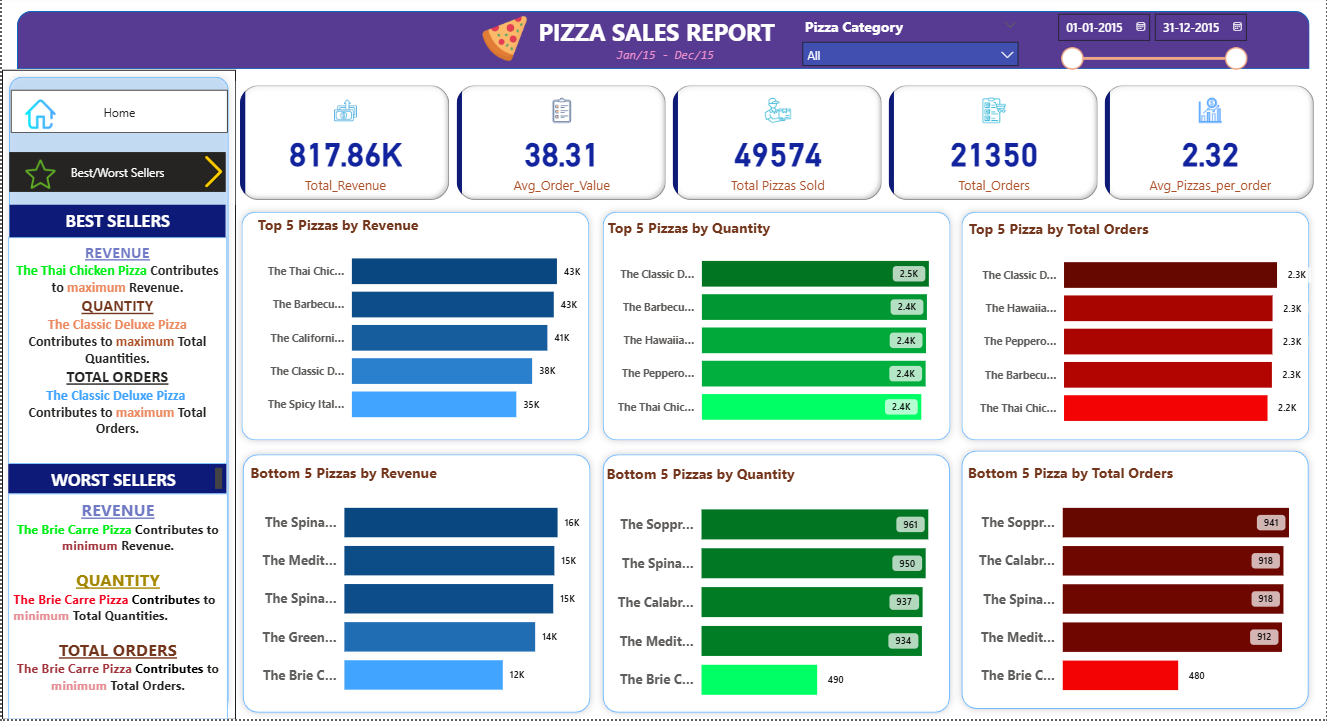

What the dashboard file says about the page in this screenshot:
{"tool":"powerbi","page":{"name":"Best/Worst Sellers","canvas":[1500,820],"ordinal":1},"visuals":[{"type":"shape","box":[0,83.6,264.9,736.7],"z":0},{"type":"textbox","box":[7.3,529.2,247.2,34.8],"z":1000},{"type":"cardVisual","fields":{"Data":["pizza_sales.Total_Revenue","pizza_sales.Avg_Order_Value","pizza_sales.Total Pizzas Sold","pizza_sales.Total_Orders","pizza_sales.Avg_Pizzas_per_order"]},"box":[264.9,96.3,1229.7,140.3],"z":2000},{"type":"shape","box":[17.7,17.7,1464.9,65.9],"z":3000},{"type":"textbox","box":[580.5,17.7,321.6,51.5],"z":4000},{"type":"textbox","box":[675.8,52.4,151.6,31.2],"z":5000},{"type":"image","box":[531.3,17,76.5,62.3],"z":6000},{"type":"shape","box":[263.5,236.6,410,275],"z":7000},{"type":"shape","box":[264.9,511.4,410,308.8],"z":8000},{"type":"textbox","box":[8.5,284.8,247.9,243.7],"z":9000},{"type":"textbox","box":[8.5,247.9,245.1,36.8],"z":10000},{"type":"textbox","box":[7.3,564,249,256.4],"z":11000},{"type":"slicer","fields":{"Values":["pizza_sales.pizza_category"]},"box":[896.8,18.4,264.9,60.9],"z":12000},{"type":"slicer","fields":{"Values":["pizza_sales.order_date"]},"box":[1184.4,9.9,235.2,86.4],"z":13000},{"type":"shape","box":[672.9,236.6,410,275],"z":14000},{"type":"shape","box":[1079.5,236.6,410,275],"z":15000},{"type":"shape","box":[672.9,511.4,409.4,308.8],"z":16000},{"type":"barChart","title":"Top 5 Pizzas by Revenue","fields":{"Category":["pizza_sales.pizza_name"],"Y":["pizza_sales.Total_Revenue"]},"box":[284.8,247.9,396.7,250.8],"z":17000},{"type":"barChart","title":"Bottom 5 Pizzas by Revenue","fields":{"Category":["pizza_sales.pizza_name"],"Y":["pizza_sales.Total_Revenue"]},"box":[276.6,529.1,395.6,281.4],"z":18000},{"type":"barChart","title":"Top 5 Pizzas by Quantity","fields":{"Category":["pizza_sales.pizza_name"],"Y":["pizza_sales.Total Pizzas Sold"]},"box":[681.8,250.9,397.2,250.9],"z":19000},{"type":"barChart","title":"Bottom 5 Pizzas by Quantity","fields":{"Category":["pizza_sales.pizza_name"],"Y":["pizza_sales.Total Pizzas Sold"]},"box":[680,529.9,398.1,286.2],"z":20000},{"type":"shape","box":[1079.5,507.2,409.4,308.8],"z":21000},{"type":"barChart","title":"Top 5 Pizza by Total Orders","fields":{"Category":["pizza_sales.pizza_name"],"Y":["pizza_sales.Total_Orders"]},"box":[1090.9,252.2,398.1,250.8],"z":22000},{"type":"barChart","title":"Bottom 5 Pizza by Total Orders","fields":{"Category":["pizza_sales.pizza_name"],"Y":["pizza_sales.Total_Orders"]},"box":[1089.5,528.4,398.1,281.9],"z":23000},{"type":"pageNavigator","box":[8.5,177.1,245.1,45.3],"z":23001},{"type":"pageNavigator","box":[9.9,106.3,246.5,49.6],"z":23002},{"type":"image","box":[216.8,174.3,46.8,49.6],"z":23003},{"type":"image","box":[0,111.9,86.4,43.9],"z":23004},{"type":"image","box":[0,179.9,86.4,43.9],"z":23005}]}

Visuals, with their boxes in screenshot pixels (x1, y1, x2, y2), scaled from the page's 1500x820 canvas onto the 1327x721 screenshot:
shape: 0:74:234:720
textbox: 6:465:225:496
cardVisual - pizza_sales.Total_Revenue x pizza_sales.Avg_Order_Value: 234:85:1322:208
shape: 16:16:1312:74
textbox: 514:16:798:61
textbox: 598:46:732:74
image: 470:15:538:70
shape: 233:208:596:450
shape: 234:450:597:720
textbox: 8:250:227:465
textbox: 8:218:224:250
textbox: 6:496:227:720
slicer - pizza_sales.pizza_category: 793:16:1028:70
slicer - pizza_sales.order_date: 1048:9:1256:85
shape: 595:208:958:450
shape: 955:208:1318:450
shape: 595:450:957:720
"Top 5 Pizzas by Revenue" barChart: 252:218:603:438
"Bottom 5 Pizzas by Revenue" barChart: 245:465:595:713
"Top 5 Pizzas by Quantity" barChart: 603:221:955:441
"Bottom 5 Pizzas by Quantity" barChart: 602:466:954:718
shape: 955:446:1317:717
"Top 5 Pizza by Total Orders" barChart: 965:222:1317:442
"Bottom 5 Pizza by Total Orders" barChart: 964:465:1316:712
pageNavigator: 8:156:224:196
pageNavigator: 9:93:227:137
image: 192:153:233:197
image: 0:98:76:137
image: 0:158:76:197
